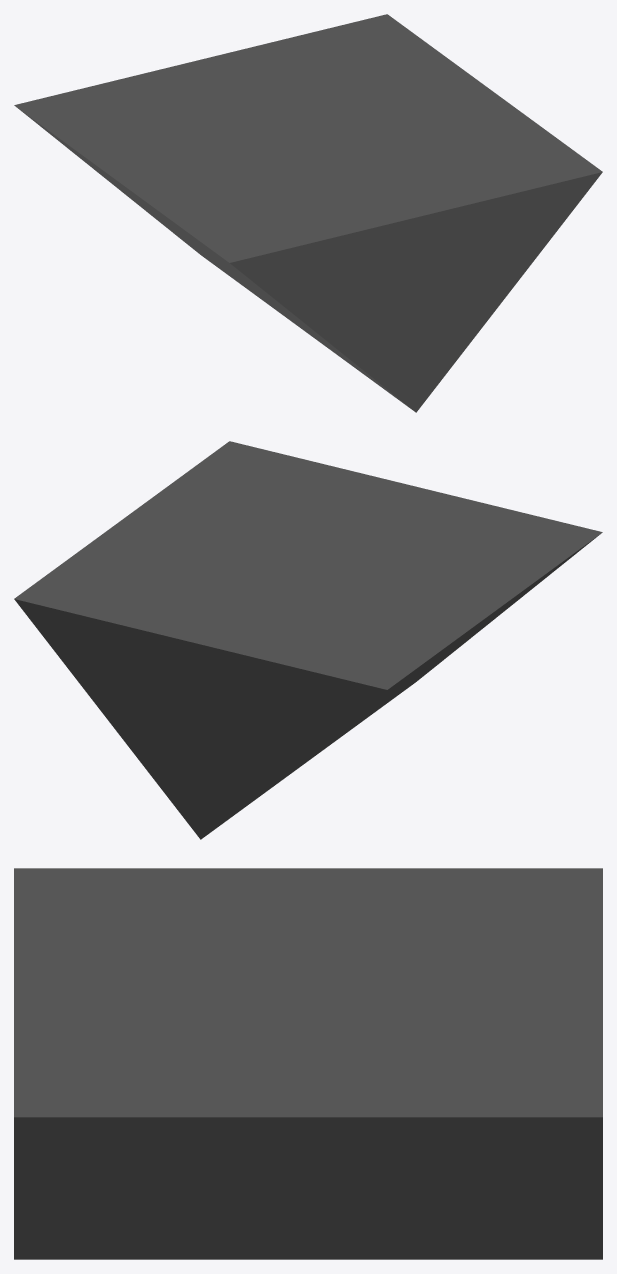
File: SM_platform_triangle_3x1_5.fbx
The picture shows the model from 3 angles, top to bottom: view 1: azimuth 30°, elevation 25°; view 2: azimuth 150°, elevation 25°; view 3: azimuth 270°, elevation 25°; orthographic projection. The views are drawn at different scales.
Parts seen in each view (by area): view 1: SM_platform_triangle_3x1_5; view 2: SM_platform_triangle_3x1_5; view 3: SM_platform_triangle_3x1_5.
Part boxes in pixels (x1,y1,x2,y2): SM_platform_triangle_3x1_5: [14, 14, 602, 412]; SM_platform_triangle_3x1_5: [14, 441, 602, 839]; SM_platform_triangle_3x1_5: [14, 868, 602, 1259].
Bounding box in the file's own units: 300 × 150 × 300.
Materials: 1 (1 with a texture image).
